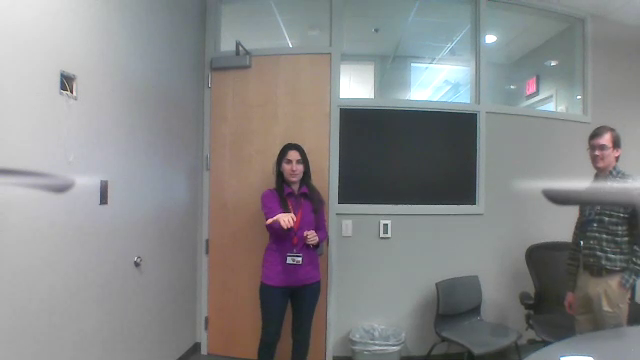land: (261, 210, 297, 232)
